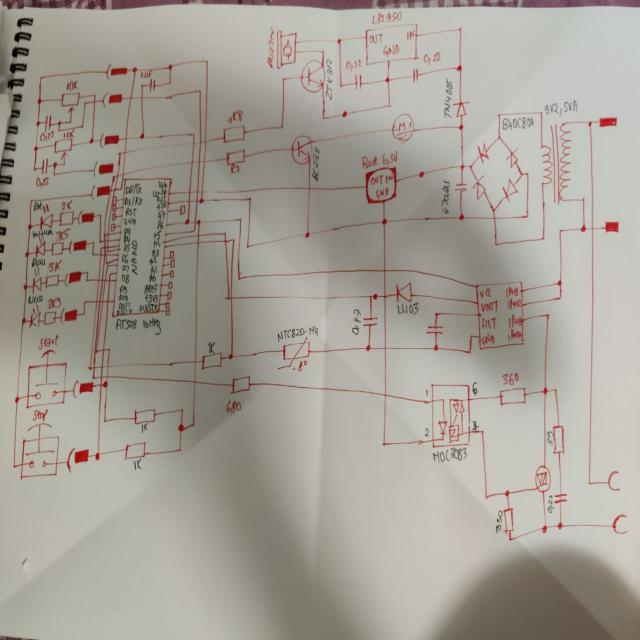capacitor: (361, 314, 378, 327), (426, 322, 444, 334), (453, 180, 468, 193), (553, 492, 568, 505), (40, 156, 49, 176), (148, 77, 158, 92), (354, 72, 362, 90), (411, 68, 419, 85), (46, 112, 52, 130)
crossover: (192, 376, 198, 385), (382, 391, 387, 399), (192, 358, 198, 364), (57, 118, 62, 125), (590, 224, 594, 232), (223, 237, 227, 244), (123, 149, 127, 156), (382, 266, 386, 273), (492, 215, 496, 222), (382, 345, 387, 350), (229, 294, 233, 300), (194, 197, 198, 203), (187, 197, 191, 203), (100, 298, 104, 304), (191, 140, 195, 146), (190, 158, 194, 164), (196, 158, 200, 164), (307, 185, 311, 191), (196, 239, 200, 244), (194, 188, 198, 193), (103, 251, 107, 256), (98, 252, 102, 257), (106, 298, 110, 303), (92, 364, 96, 369), (99, 363, 103, 368), (106, 363, 110, 368), (120, 171, 124, 176), (203, 138, 207, 143), (187, 188, 191, 193), (193, 218, 196, 224), (196, 232, 200, 236), (94, 298, 98, 302), (98, 238, 102, 242), (124, 136, 128, 140), (198, 140, 202, 144), (202, 159, 206, 163), (106, 232, 109, 236), (105, 373, 109, 376), (114, 186, 116, 191), (98, 298, 100, 303), (200, 189, 203, 192), (104, 238, 106, 242), (97, 277, 99, 281), (101, 277, 103, 281), (104, 278, 106, 282), (99, 382, 101, 386), (110, 188, 112, 191), (103, 245, 105, 248), (100, 374, 102, 377), (105, 260, 107, 263), (108, 278, 110, 281)
diode: (37, 203, 55, 229), (501, 177, 519, 203), (471, 175, 487, 201), (395, 280, 412, 304), (34, 234, 49, 259), (30, 266, 43, 294), (476, 140, 490, 165), (28, 304, 40, 330), (505, 146, 519, 168), (453, 100, 467, 118)
junction: (35, 93, 43, 105), (540, 523, 548, 534), (34, 116, 41, 128), (176, 422, 184, 432), (380, 216, 388, 226), (364, 342, 372, 352), (555, 520, 563, 530), (31, 143, 39, 153), (303, 230, 311, 239), (579, 223, 586, 233), (31, 164, 38, 174), (130, 66, 138, 74), (13, 394, 20, 403), (455, 63, 462, 72), (542, 385, 548, 395), (384, 74, 390, 84), (24, 248, 30, 258), (38, 72, 44, 82), (504, 488, 510, 497), (432, 343, 438, 352), (586, 118, 592, 127), (580, 194, 586, 203), (22, 282, 28, 291), (94, 451, 100, 460), (372, 290, 377, 300), (81, 99, 88, 106), (227, 352, 233, 360), (459, 162, 465, 170), (102, 378, 108, 386), (166, 62, 172, 70), (101, 416, 107, 424), (278, 122, 284, 130), (556, 226, 562, 234), (203, 56, 209, 64), (457, 24, 463, 32), (386, 100, 392, 108), (280, 74, 286, 82), (236, 274, 242, 282), (88, 136, 94, 144), (91, 94, 97, 102), (139, 131, 145, 139), (556, 279, 562, 287), (341, 110, 347, 118), (336, 37, 342, 45), (468, 162, 474, 170), (544, 311, 550, 318), (79, 122, 85, 129), (539, 234, 545, 241), (524, 170, 530, 177), (490, 205, 496, 212), (538, 109, 544, 116), (496, 112, 502, 119), (458, 214, 464, 221), (557, 294, 562, 302), (338, 81, 343, 89), (184, 218, 189, 226), (524, 212, 529, 220), (320, 114, 326, 120), (244, 242, 250, 248), (458, 124, 464, 130), (586, 479, 591, 486), (496, 133, 501, 140), (493, 240, 498, 247), (179, 406, 184, 413), (11, 462, 16, 469), (82, 298, 87, 305), (191, 420, 195, 428), (247, 195, 252, 201), (199, 197, 204, 203), (21, 316, 26, 322), (320, 49, 325, 55), (381, 440, 385, 447), (553, 385, 557, 392), (191, 130, 195, 137), (480, 428, 484, 435), (508, 535, 512, 542), (238, 215, 242, 222), (91, 249, 95, 256), (140, 82, 144, 89), (27, 222, 31, 229), (467, 349, 471, 355), (484, 493, 488, 499), (177, 446, 181, 452), (468, 332, 472, 338), (167, 79, 171, 85), (197, 219, 201, 225), (117, 150, 121, 156), (52, 161, 56, 167), (28, 198, 32, 204), (382, 292, 386, 298), (368, 293, 372, 299), (231, 237, 235, 242), (191, 227, 195, 232), (111, 174, 115, 179), (52, 171, 56, 176), (198, 88, 202, 93), (225, 295, 229, 300), (98, 212, 101, 218), (222, 230, 226, 234), (87, 366, 91, 370), (94, 349, 98, 353), (92, 374, 95, 379), (92, 239, 95, 244), (82, 310, 85, 314), (109, 270, 111, 276), (120, 185, 122, 190), (108, 347, 110, 352), (106, 262, 108, 267), (86, 269, 88, 273), (86, 277, 88, 281)
resistor: (52, 136, 76, 161), (220, 123, 246, 145), (498, 386, 526, 406), (57, 89, 81, 112), (122, 441, 146, 463), (224, 146, 247, 166), (132, 406, 156, 425), (200, 351, 222, 370), (230, 374, 250, 394), (552, 424, 564, 454), (502, 506, 514, 532), (59, 210, 76, 228), (50, 240, 64, 257), (43, 309, 57, 325), (44, 274, 60, 287)
switch: (24, 348, 68, 408), (19, 420, 61, 480), (65, 444, 91, 474), (72, 379, 96, 398)
terminal: (611, 510, 629, 536), (602, 215, 622, 238), (598, 114, 622, 130), (607, 466, 621, 490)
text: (114, 316, 162, 336), (275, 323, 320, 342), (361, 149, 397, 166), (431, 446, 467, 463), (544, 98, 578, 115), (368, 10, 402, 24), (501, 116, 533, 130), (265, 26, 275, 70), (392, 302, 420, 317), (442, 76, 452, 118), (36, 333, 59, 350), (325, 55, 333, 102), (440, 177, 450, 214), (350, 307, 362, 336), (225, 107, 245, 124), (130, 238, 138, 275), (311, 145, 319, 180), (224, 398, 242, 413), (344, 57, 362, 72), (501, 371, 519, 385), (422, 50, 440, 64), (481, 299, 497, 313), (292, 358, 308, 372), (124, 182, 142, 194), (382, 44, 399, 56), (32, 410, 50, 421), (368, 30, 382, 44), (506, 283, 520, 297), (481, 316, 495, 330), (27, 293, 43, 305), (56, 229, 72, 241), (494, 508, 502, 532), (124, 196, 143, 206), (374, 186, 388, 199), (369, 172, 383, 185), (33, 228, 53, 237), (64, 78, 79, 90), (546, 491, 554, 513), (545, 424, 553, 446), (506, 298, 522, 309), (48, 260, 61, 273), (507, 329, 521, 341), (138, 303, 158, 311), (35, 177, 51, 187), (39, 130, 55, 140), (508, 315, 522, 326), (62, 128, 76, 139), (138, 68, 152, 79), (47, 297, 61, 308), (31, 256, 46, 266), (131, 458, 143, 470), (61, 198, 73, 210), (206, 339, 216, 353), (152, 186, 167, 195), (482, 333, 494, 344), (471, 379, 479, 395), (145, 294, 159, 303), (144, 283, 158, 292), (122, 216, 136, 225), (140, 422, 151, 433), (32, 198, 42, 210), (384, 173, 394, 185), (470, 416, 478, 430), (480, 286, 490, 297), (230, 163, 240, 174), (406, 28, 414, 41), (116, 309, 132, 315), (157, 179, 167, 188), (117, 301, 131, 307), (156, 209, 164, 219), (118, 294, 128, 302), (422, 385, 428, 397), (152, 238, 160, 247), (122, 234, 130, 243), (120, 253, 128, 262), (121, 262, 129, 271), (126, 208, 136, 215), (157, 219, 164, 229), (156, 196, 167, 202), (156, 202, 167, 208), (153, 230, 161, 238), (151, 248, 159, 256), (122, 243, 130, 251), (120, 274, 128, 282), (119, 284, 127, 292), (423, 426, 429, 436), (151, 264, 157, 274), (149, 274, 156, 282), (124, 227, 131, 234), (150, 256, 156, 264)
transformer: (536, 122, 572, 203)
transistor: (299, 58, 325, 94), (289, 132, 312, 165)
